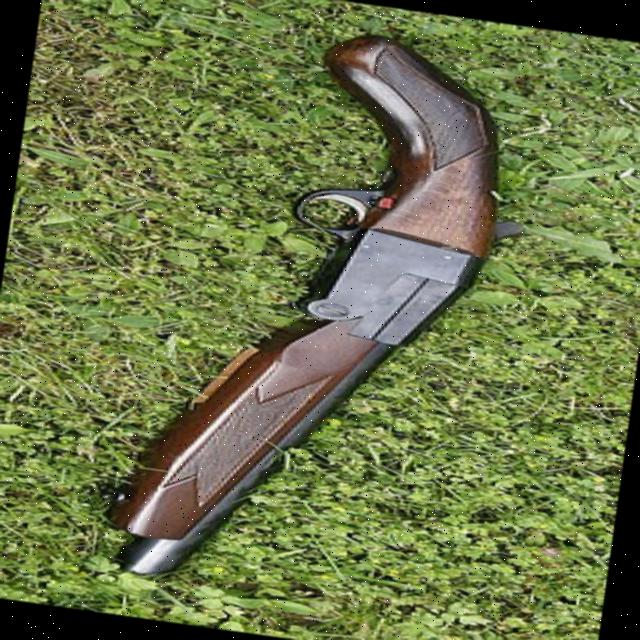Shotgun: (122, 5, 530, 614)
